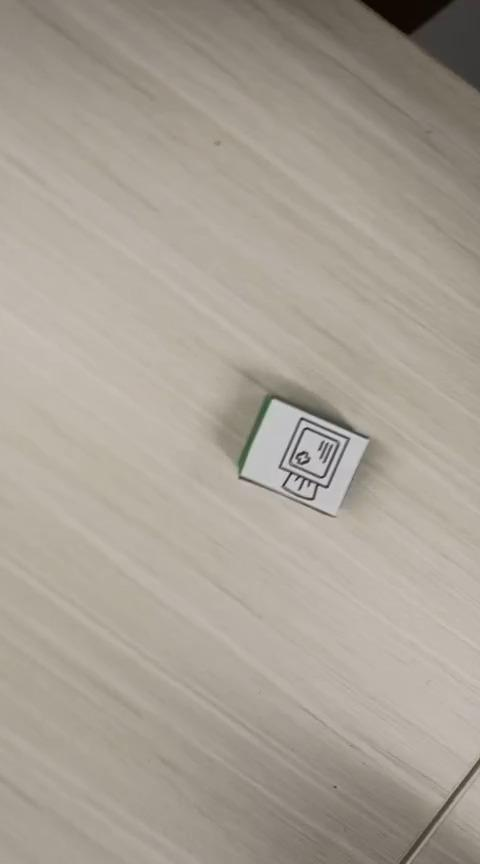Gauze: (236, 392, 370, 518)
